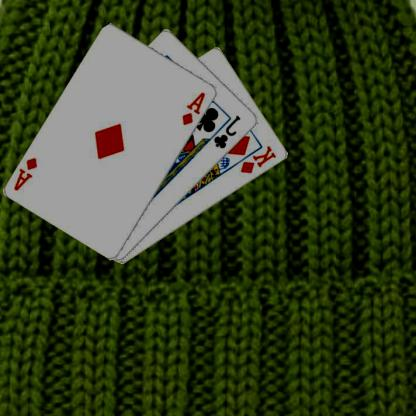AD: (13, 154, 41, 192), (182, 90, 209, 127)
JC: (213, 112, 244, 150)
KD: (240, 143, 279, 175)
